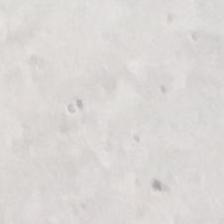Non_Crack: (16, 47, 224, 224)
